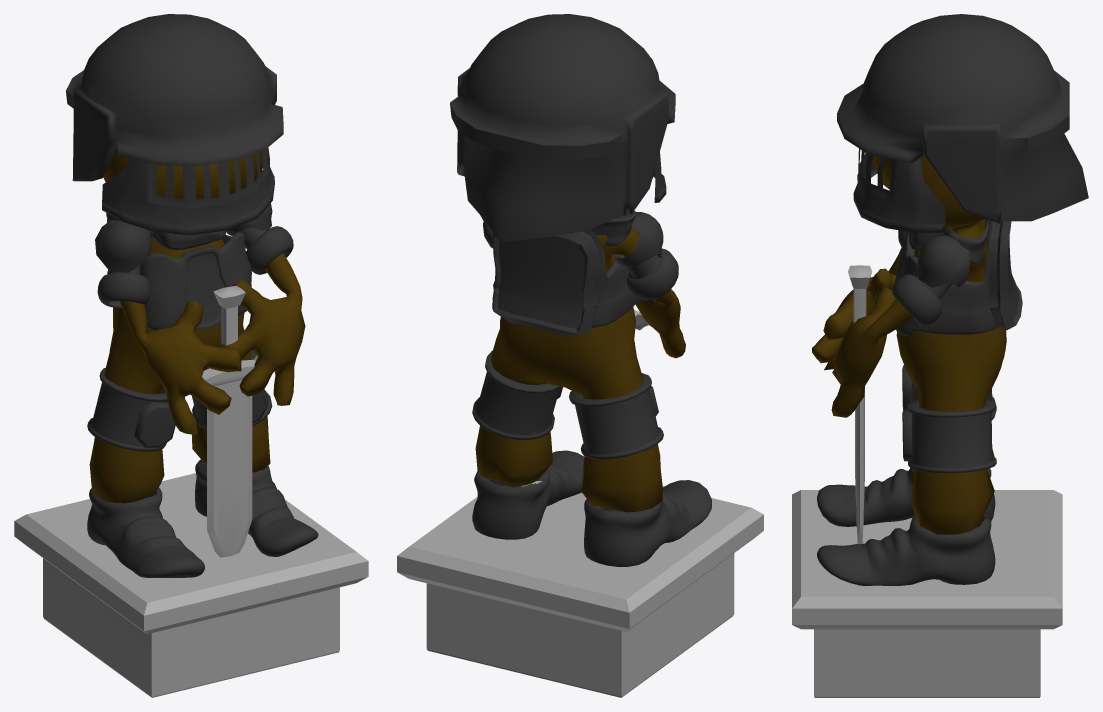
File: Armadura.fbx
3 views of the same model, side by side, from view 1: azimuth 30°, elevation 25°; view 2: azimuth 150°, elevation 25°; view 3: azimuth 270°, elevation 25° (orthographic). The views are drawn at different scales.
Visible parts, largest first — view 1: Armadura_Estatua; view 2: Armadura_Estatua; view 3: Armadura_Estatua.
Boxes of the visible parts, x1,y1,x2,y2 form: Armadura_Estatua: (14,14,368,697); Armadura_Estatua: (397,14,763,697); Armadura_Estatua: (792,14,1088,697).
Bounding box in the file's own units: 1.75 × 4.47 × 1.92.
